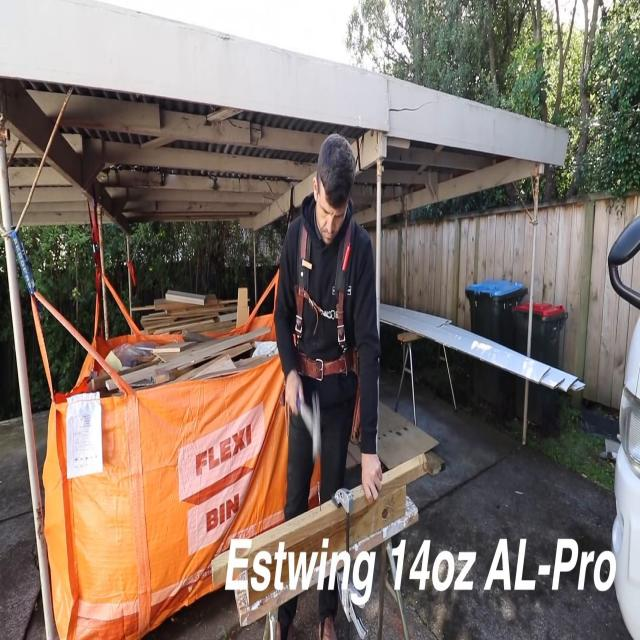hammer: (297, 390, 330, 464)
